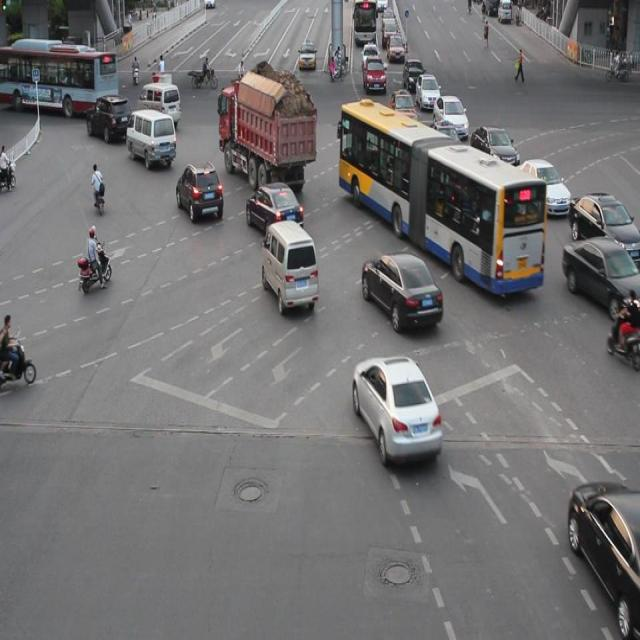bus: (218, 80, 316, 190)
car: (564, 476, 640, 639), (352, 354, 441, 463), (560, 236, 640, 328), (361, 252, 443, 331), (567, 190, 640, 266), (246, 180, 304, 243), (462, 174, 516, 238), (513, 157, 569, 215), (176, 159, 222, 221), (88, 94, 134, 141), (470, 122, 518, 166), (426, 120, 463, 164), (432, 94, 468, 138), (387, 92, 416, 130)
truck: (261, 219, 318, 312), (126, 108, 176, 166), (138, 82, 181, 128)
van: (338, 101, 543, 292)
